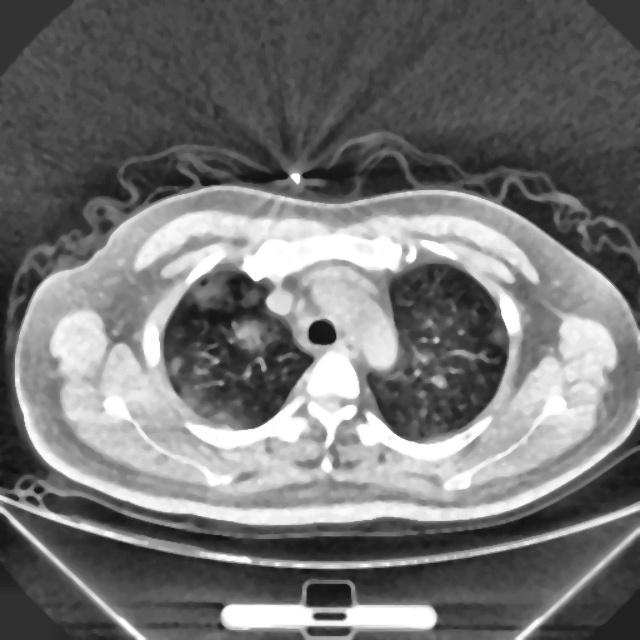covid: (12, 179, 638, 536)
